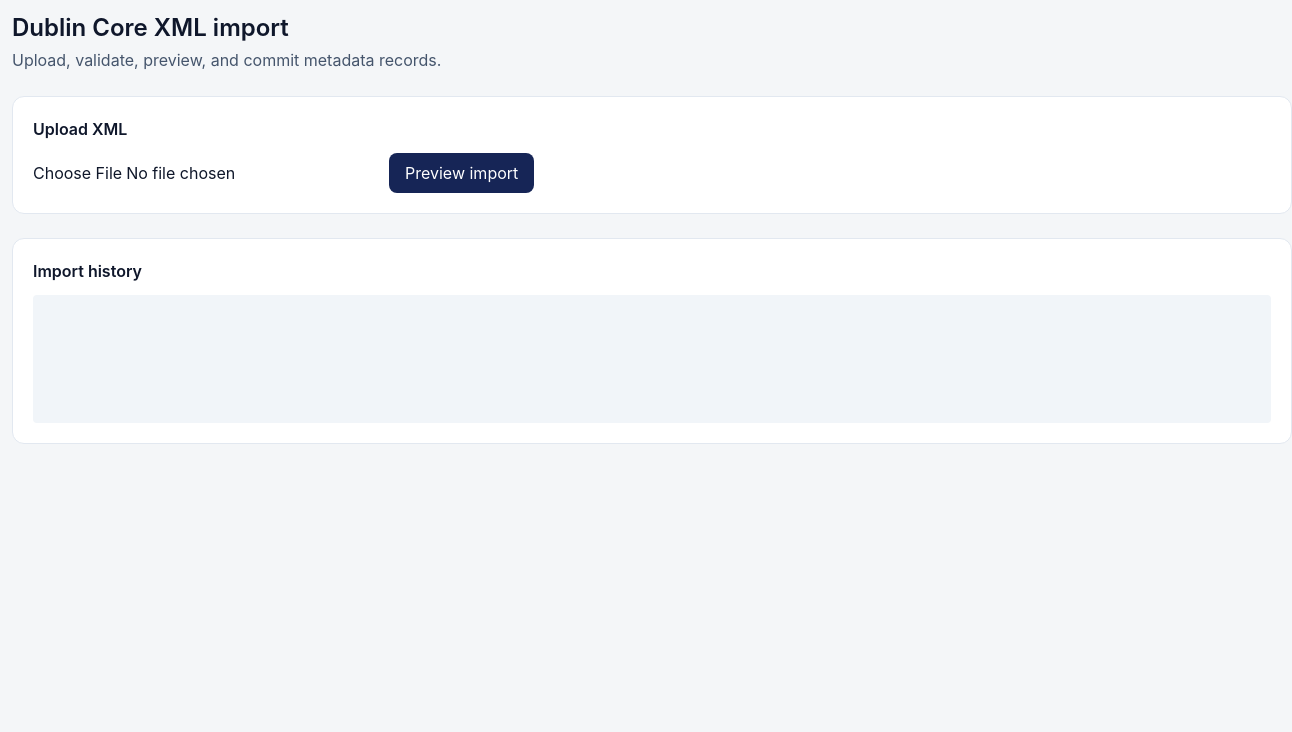
Test case: ImportsPage › shows a preview with valid and invalid records
Earlier steps of the test are not shown.
Click the button "Preview import". click: (462, 173)
box: [389,153,534,193]
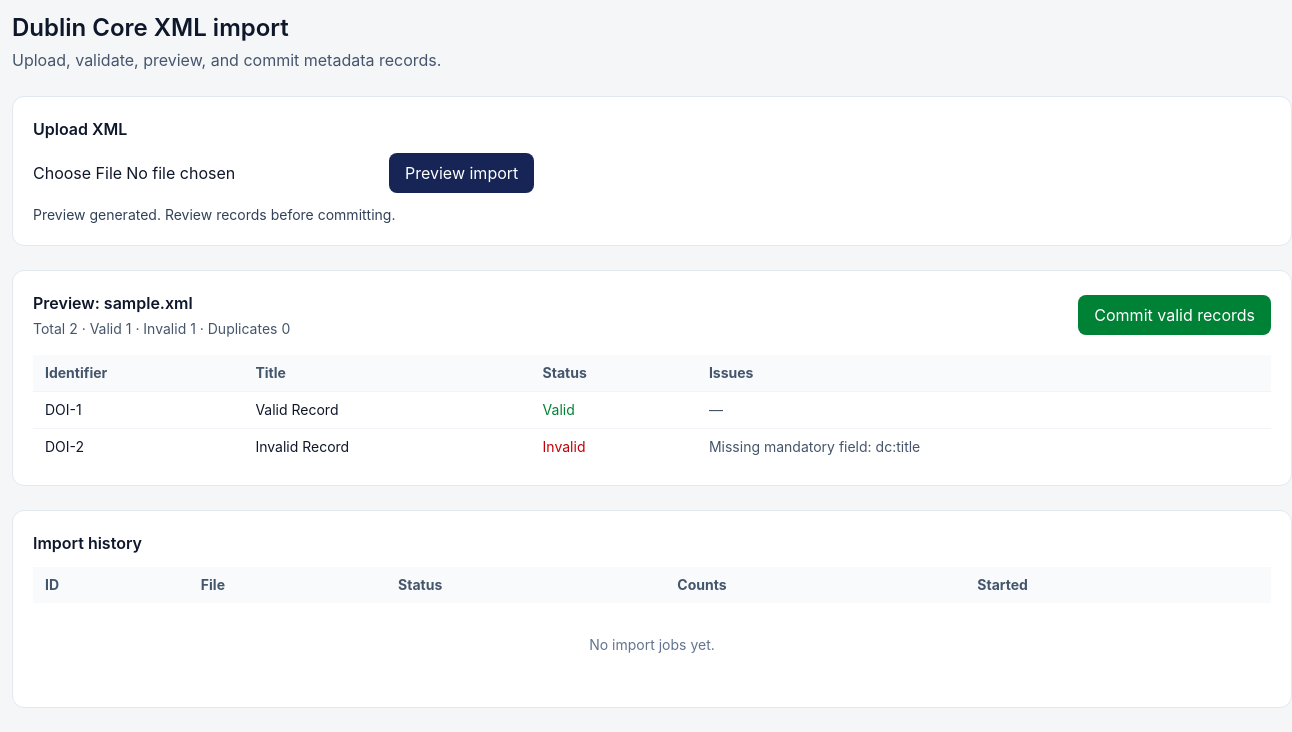
Check: the heading "Preview: sample.xml" is shown, box [33,293,193,313]
Check: the text "Valid Record" is shown, box [243,392,531,428]
Check: the text "Missing mandatory field: dc:title" is shown, box [697,428,1271,465]
